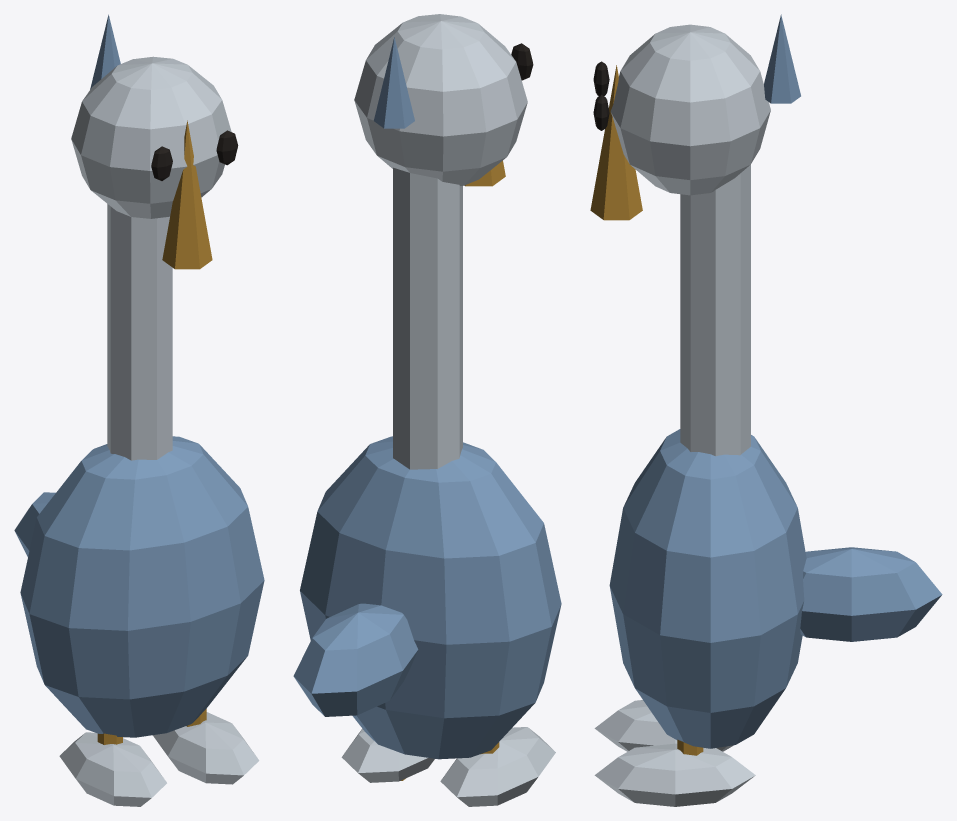
File: heron.glb
3 views of the same model, side by side, from view 1: azimuth 30°, elevation 25°; view 2: azimuth 150°, elevation 25°; view 3: azimuth 270°, elevation 25° (orthographic). The views are drawn at different scales.
Parts seen in each view (by area): view 1: Body_mesh; view 2: Body_mesh; view 3: Body_mesh.
Boxes of the visible parts, box(x1,y1,x2,y2) form: Body_mesh: box(14, 14, 264, 806); Body_mesh: box(293, 14, 561, 806); Body_mesh: box(590, 14, 942, 806).
Size of the model in its own units: 0.27 by 0.835 by 0.349.
